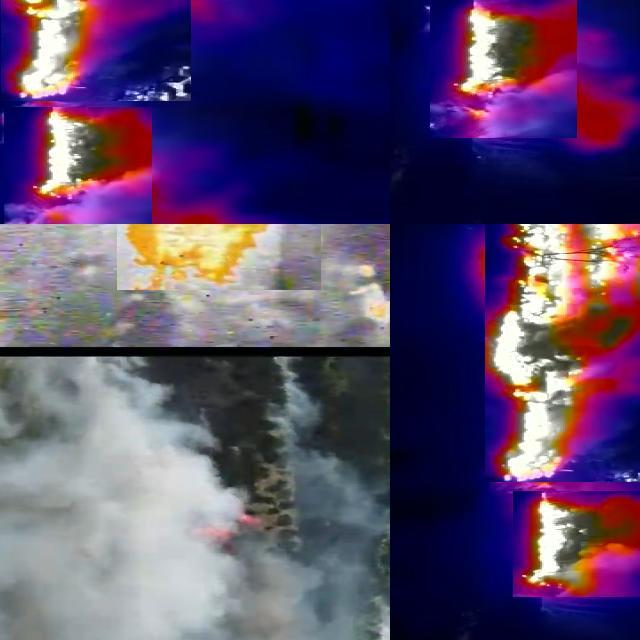fire: (485, 225, 640, 482), (430, 1, 577, 139), (1, 1, 191, 102), (3, 108, 151, 225), (117, 225, 321, 291), (513, 492, 640, 598), (350, 256, 391, 331), (195, 514, 265, 545)
